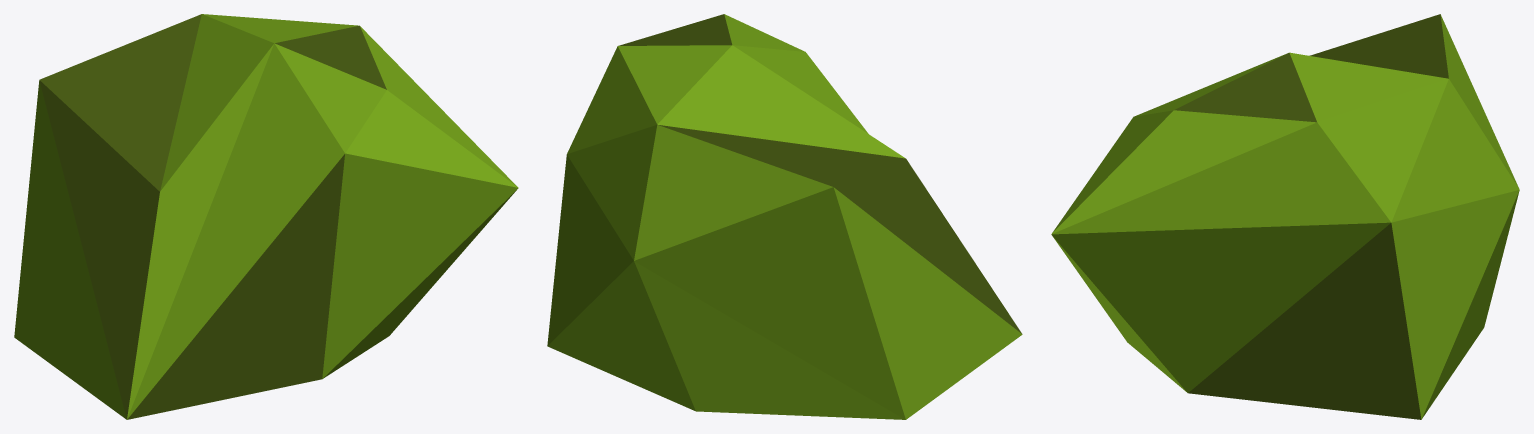
The model's file is Plant_M1_4.fbx.
3 renders of one model, left to right at view 1: azimuth 30°, elevation 25°; view 2: azimuth 150°, elevation 25°; view 3: azimuth 270°, elevation 25°, orthographic. The views are drawn at different scales.
Parts seen in each view (by area): view 1: Plant_M1_4; view 2: Plant_M1_4; view 3: Plant_M1_4.
Part boxes in pixels (<box>): Plant_M1_4: <box>14,14,518,419</box>; Plant_M1_4: <box>547,14,1022,419</box>; Plant_M1_4: <box>1051,14,1519,419</box>.
Size of the model in its own units: 47.08 by 35.45 by 49.58.
